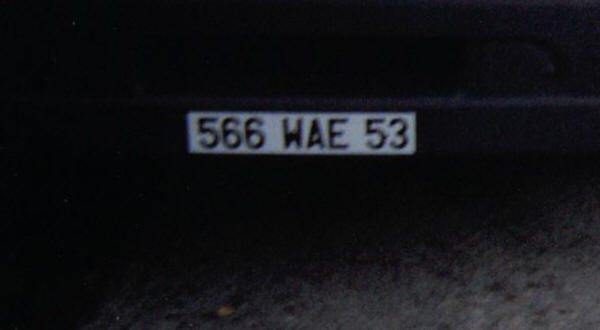license_plate: (186, 109, 417, 157)
